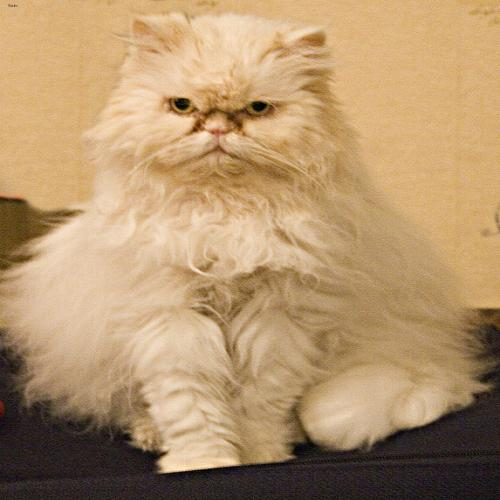persian: (94, 4, 350, 210)
